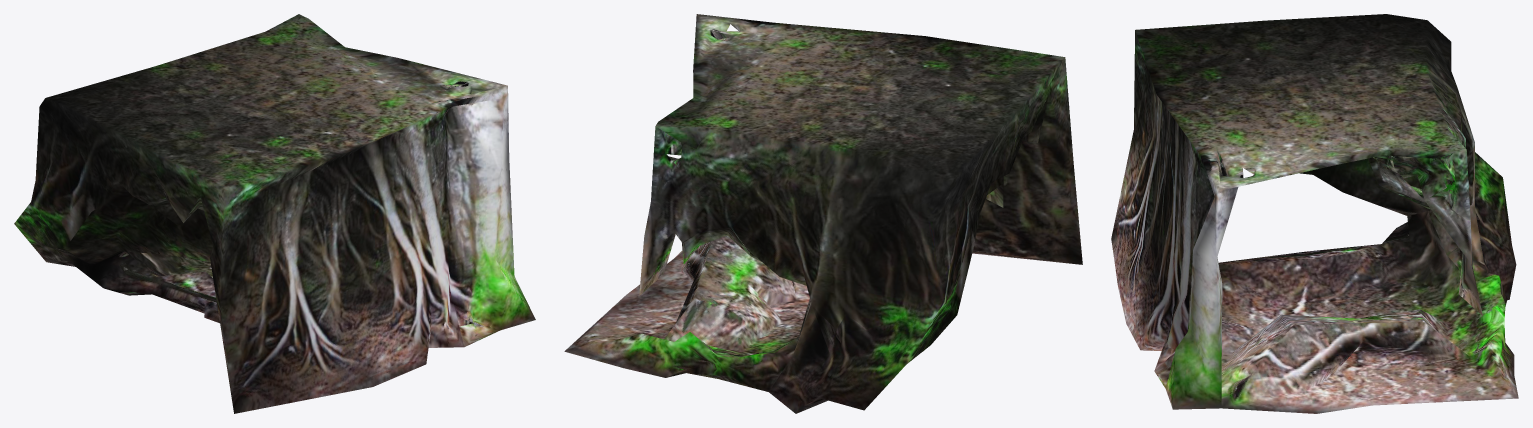
The model's file is 8f70ed07e413_15e8e20276b2_a_cave_tunnel_cover.glb.
3 renders of one model, left to right at view 1: azimuth 30°, elevation 25°; view 2: azimuth 150°, elevation 25°; view 3: azimuth 270°, elevation 25°, orthographic.
Parts seen in each view (by area): view 1: mesh; view 2: mesh; view 3: mesh.
Boxes of the visible parts, x1,y1,x2,y2 form: mesh: [14, 14, 535, 413]; mesh: [564, 14, 1082, 413]; mesh: [1111, 14, 1518, 413].
Size of the model in its own units: 1 by 0.6158 by 0.9784.
1 material, 1 textured.
